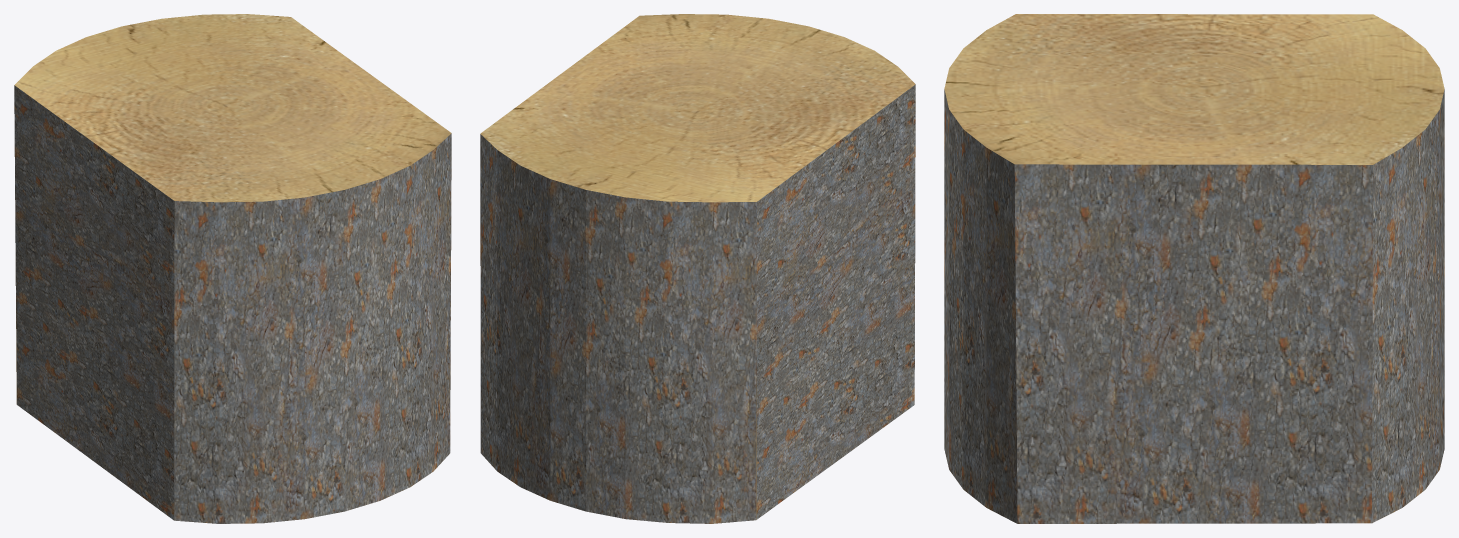
The model's file is centertree.fbx.
The picture shows the model from 3 angles, left to right: view 1: azimuth 30°, elevation 25°; view 2: azimuth 150°, elevation 25°; view 3: azimuth 270°, elevation 25°; orthographic projection. The views are drawn at different scales.
Visible parts, largest first — view 1: Cylinder; view 2: Cylinder; view 3: Cylinder.
Part boxes in pixels (x1=…): Cylinder: x1=14, y1=14, x2=451, y2=523; Cylinder: x1=480, y1=14, x2=915, y2=523; Cylinder: x1=944, y1=14, x2=1444, y2=523.
Bounding box in the file's own units: 100 × 111 × 140.
